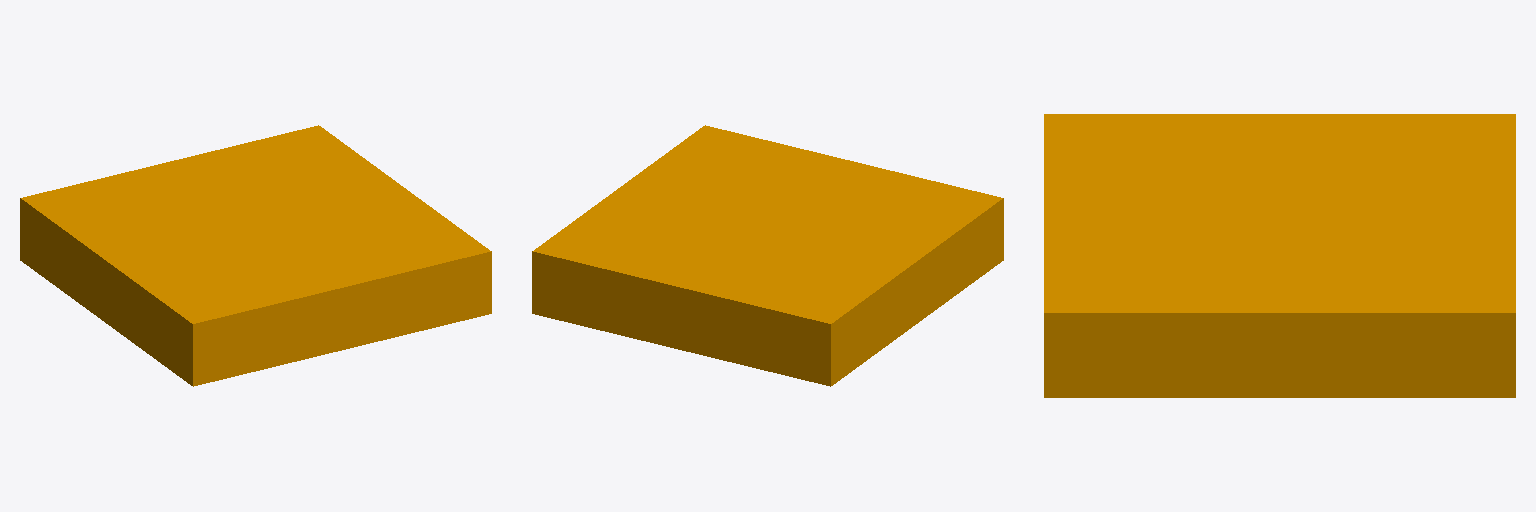
robot.urdf — basic_platform:
<?xml version="1.0"?>
<robot name="basic_platform">
  <link name="platform">
    <visual>
      <geometry>
        <box size="0.5 0.5 0.1"/>   
      </geometry>
    </visual>
    <collision>
      <geometry>
        <box size="0.5 0.5 0.1"/>
      </geometry>
    </collision>
    <inertial>
      <mass value="5"/>
      <inertia ixx="0.1" ixy="0" ixz="0" iyy="0.1" iyz="0" izz="0.1"/>
    </inertial>
  </link>
</robot>

--- Facts derived from the render (not from the file) ---
3 views of the same robot in one strip: view 1: azimuth 30°, elevation 25°; view 2: azimuth 150°, elevation 25°; view 3: azimuth 270°, elevation 25° (orthographic).
Robot: basic_platform — 1 links, 0 joints (none); root link platform; default pose: all joints at 0.
Visible links, largest first — view 1: platform; view 2: platform; view 3: platform.
Link boxes in pixels (x1,y1,x2,y2): platform: (20, 125, 491, 386); platform: (532, 125, 1003, 386); platform: (1044, 114, 1515, 397).
Size in the robot's own frame: 0.5 by 0.5 by 0.1 metres.
Geometry: primitives only (box / cylinder / sphere), no mesh files.